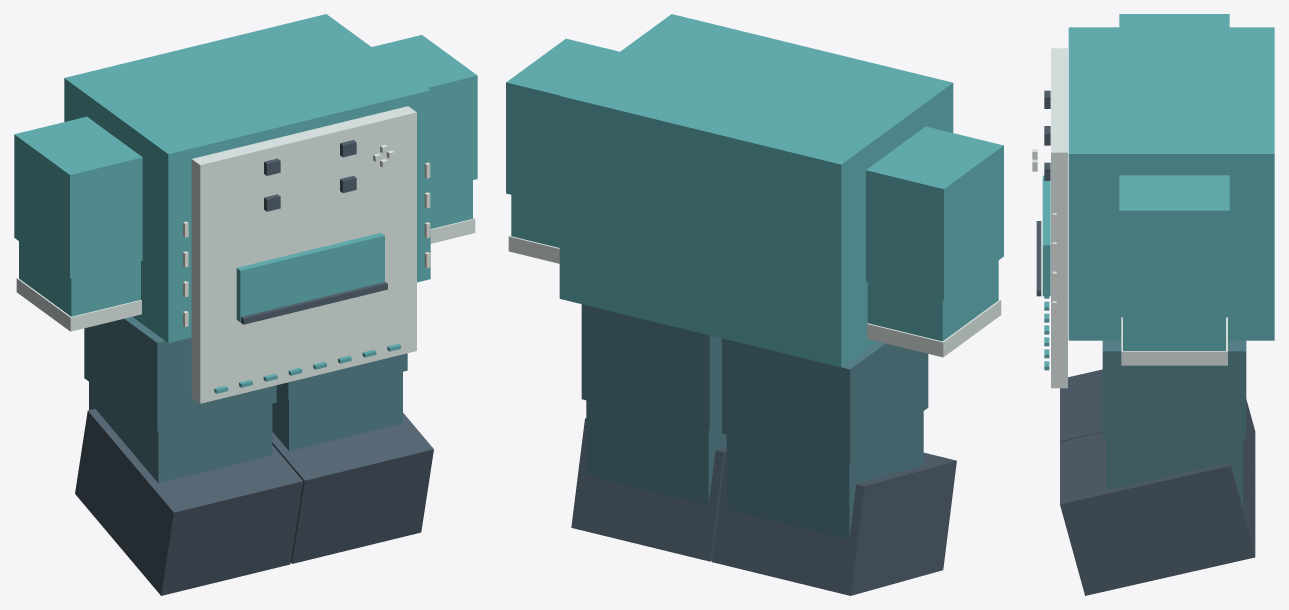
Rendered from chef-teal.glb.
3 renders of one model, left to right at view 1: azimuth 30°, elevation 25°; view 2: azimuth 150°, elevation 25°; view 3: azimuth 270°, elevation 25°, orthographic. The views are drawn at different scales.
Visible parts, largest first — view 1: apron, jacket, shoe-Right, upper-sleeve-Right, shoe-Left, trouser-Right, lower-trouser-Right, upper-sleeve-Left, apron-pocket, lower-trouser-Left, lower-sleeve-Right, trouser-Left (+4 smaller); view 2: jacket, upper-sleeve-Right, trouser-Right, shoe-Right, trouser-Left, lower-trouser-Right, lower-trouser-Left, upper-sleeve-Left, shoe-Left, lower-sleeve-Right, cuff-Right, lower-sleeve-Left (+1 smaller); view 3: jacket, shoe-Left, upper-sleeve-Left, trouser-Left, apron, lower-trouser-Left, lower-sleeve-Left, shoe-Right, cuff-Left, upper-sleeve-Right, apron-pocket, design-chef-apron-pocket-binding.
Boxes of the visible parts, bbox=[...] form: apron: bbox=[191, 106, 416, 403]; jacket: bbox=[64, 14, 430, 342]; shoe-Right: bbox=[75, 409, 302, 595]; upper-sleeve-Right: bbox=[14, 116, 142, 278]; shoe-Left: bbox=[272, 413, 433, 563]; trouser-Right: bbox=[84, 317, 276, 431]; lower-trouser-Right: bbox=[89, 382, 272, 482]; upper-sleeve-Left: bbox=[372, 35, 477, 190]; apron-pocket: bbox=[236, 233, 384, 322]; lower-trouser-Left: bbox=[272, 372, 402, 451]; lower-sleeve-Right: bbox=[19, 241, 140, 316]; trouser-Left: bbox=[276, 353, 407, 399]; jacket: bbox=[559, 14, 953, 367]; upper-sleeve-Right: bbox=[866, 126, 1003, 300]; trouser-Right: bbox=[722, 338, 928, 464]; shoe-Right: bbox=[712, 452, 956, 595]; trouser-Left: bbox=[581, 304, 721, 430]; lower-trouser-Right: bbox=[726, 411, 923, 539]; lower-trouser-Left: bbox=[586, 400, 726, 505]; upper-sleeve-Left: bbox=[506, 38, 619, 206]; shoe-Left: bbox=[571, 418, 726, 561]; lower-sleeve-Right: bbox=[867, 260, 998, 341]; cuff-Right: bbox=[867, 299, 1001, 357]; lower-sleeve-Left: bbox=[511, 195, 559, 247]; jacket: bbox=[1068, 27, 1274, 340]; shoe-Left: bbox=[1060, 432, 1255, 595]; upper-sleeve-Left: bbox=[1119, 175, 1229, 312]; trouser-Left: bbox=[1102, 340, 1246, 438]; apron: bbox=[1051, 48, 1067, 388]; lower-trouser-Left: bbox=[1106, 439, 1242, 507]; lower-sleeve-Left: bbox=[1123, 312, 1225, 350]; shoe-Right: bbox=[1060, 369, 1255, 493]; cuff-Left: bbox=[1121, 317, 1227, 365]; upper-sleeve-Right: bbox=[1119, 14, 1229, 27]; apron-pocket: bbox=[1042, 175, 1050, 296]; design-chef-apron-pocket-binding: bbox=[1036, 221, 1041, 296].
Size of the model in its own units: 1.07 by 1.13 by 0.559.
